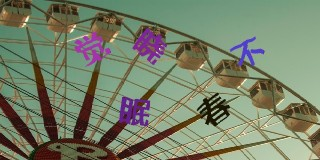不: (231, 37, 266, 70)
春: (197, 91, 232, 127)
晓: (131, 25, 166, 65)
眠: (116, 95, 152, 129)
觉: (74, 32, 112, 67)
